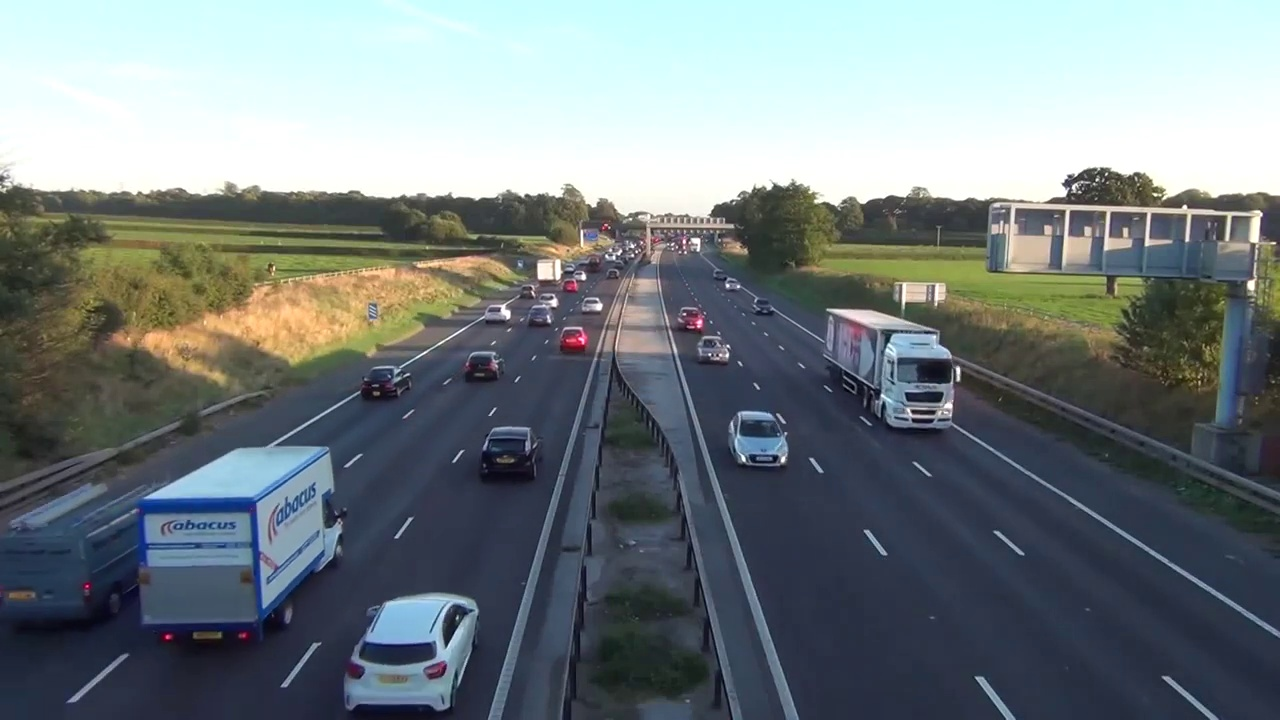bus: (346, 590, 479, 712), (481, 425, 544, 486), (726, 410, 790, 470), (362, 365, 416, 399), (466, 351, 505, 381), (696, 334, 731, 363), (560, 326, 589, 352), (677, 306, 704, 332), (485, 304, 511, 322), (529, 306, 552, 326), (752, 298, 774, 315), (581, 297, 603, 313), (538, 294, 560, 309), (519, 285, 536, 299), (725, 277, 740, 291)
car: (142, 446, 343, 648), (0, 482, 161, 615), (823, 307, 961, 432), (536, 258, 564, 286)
